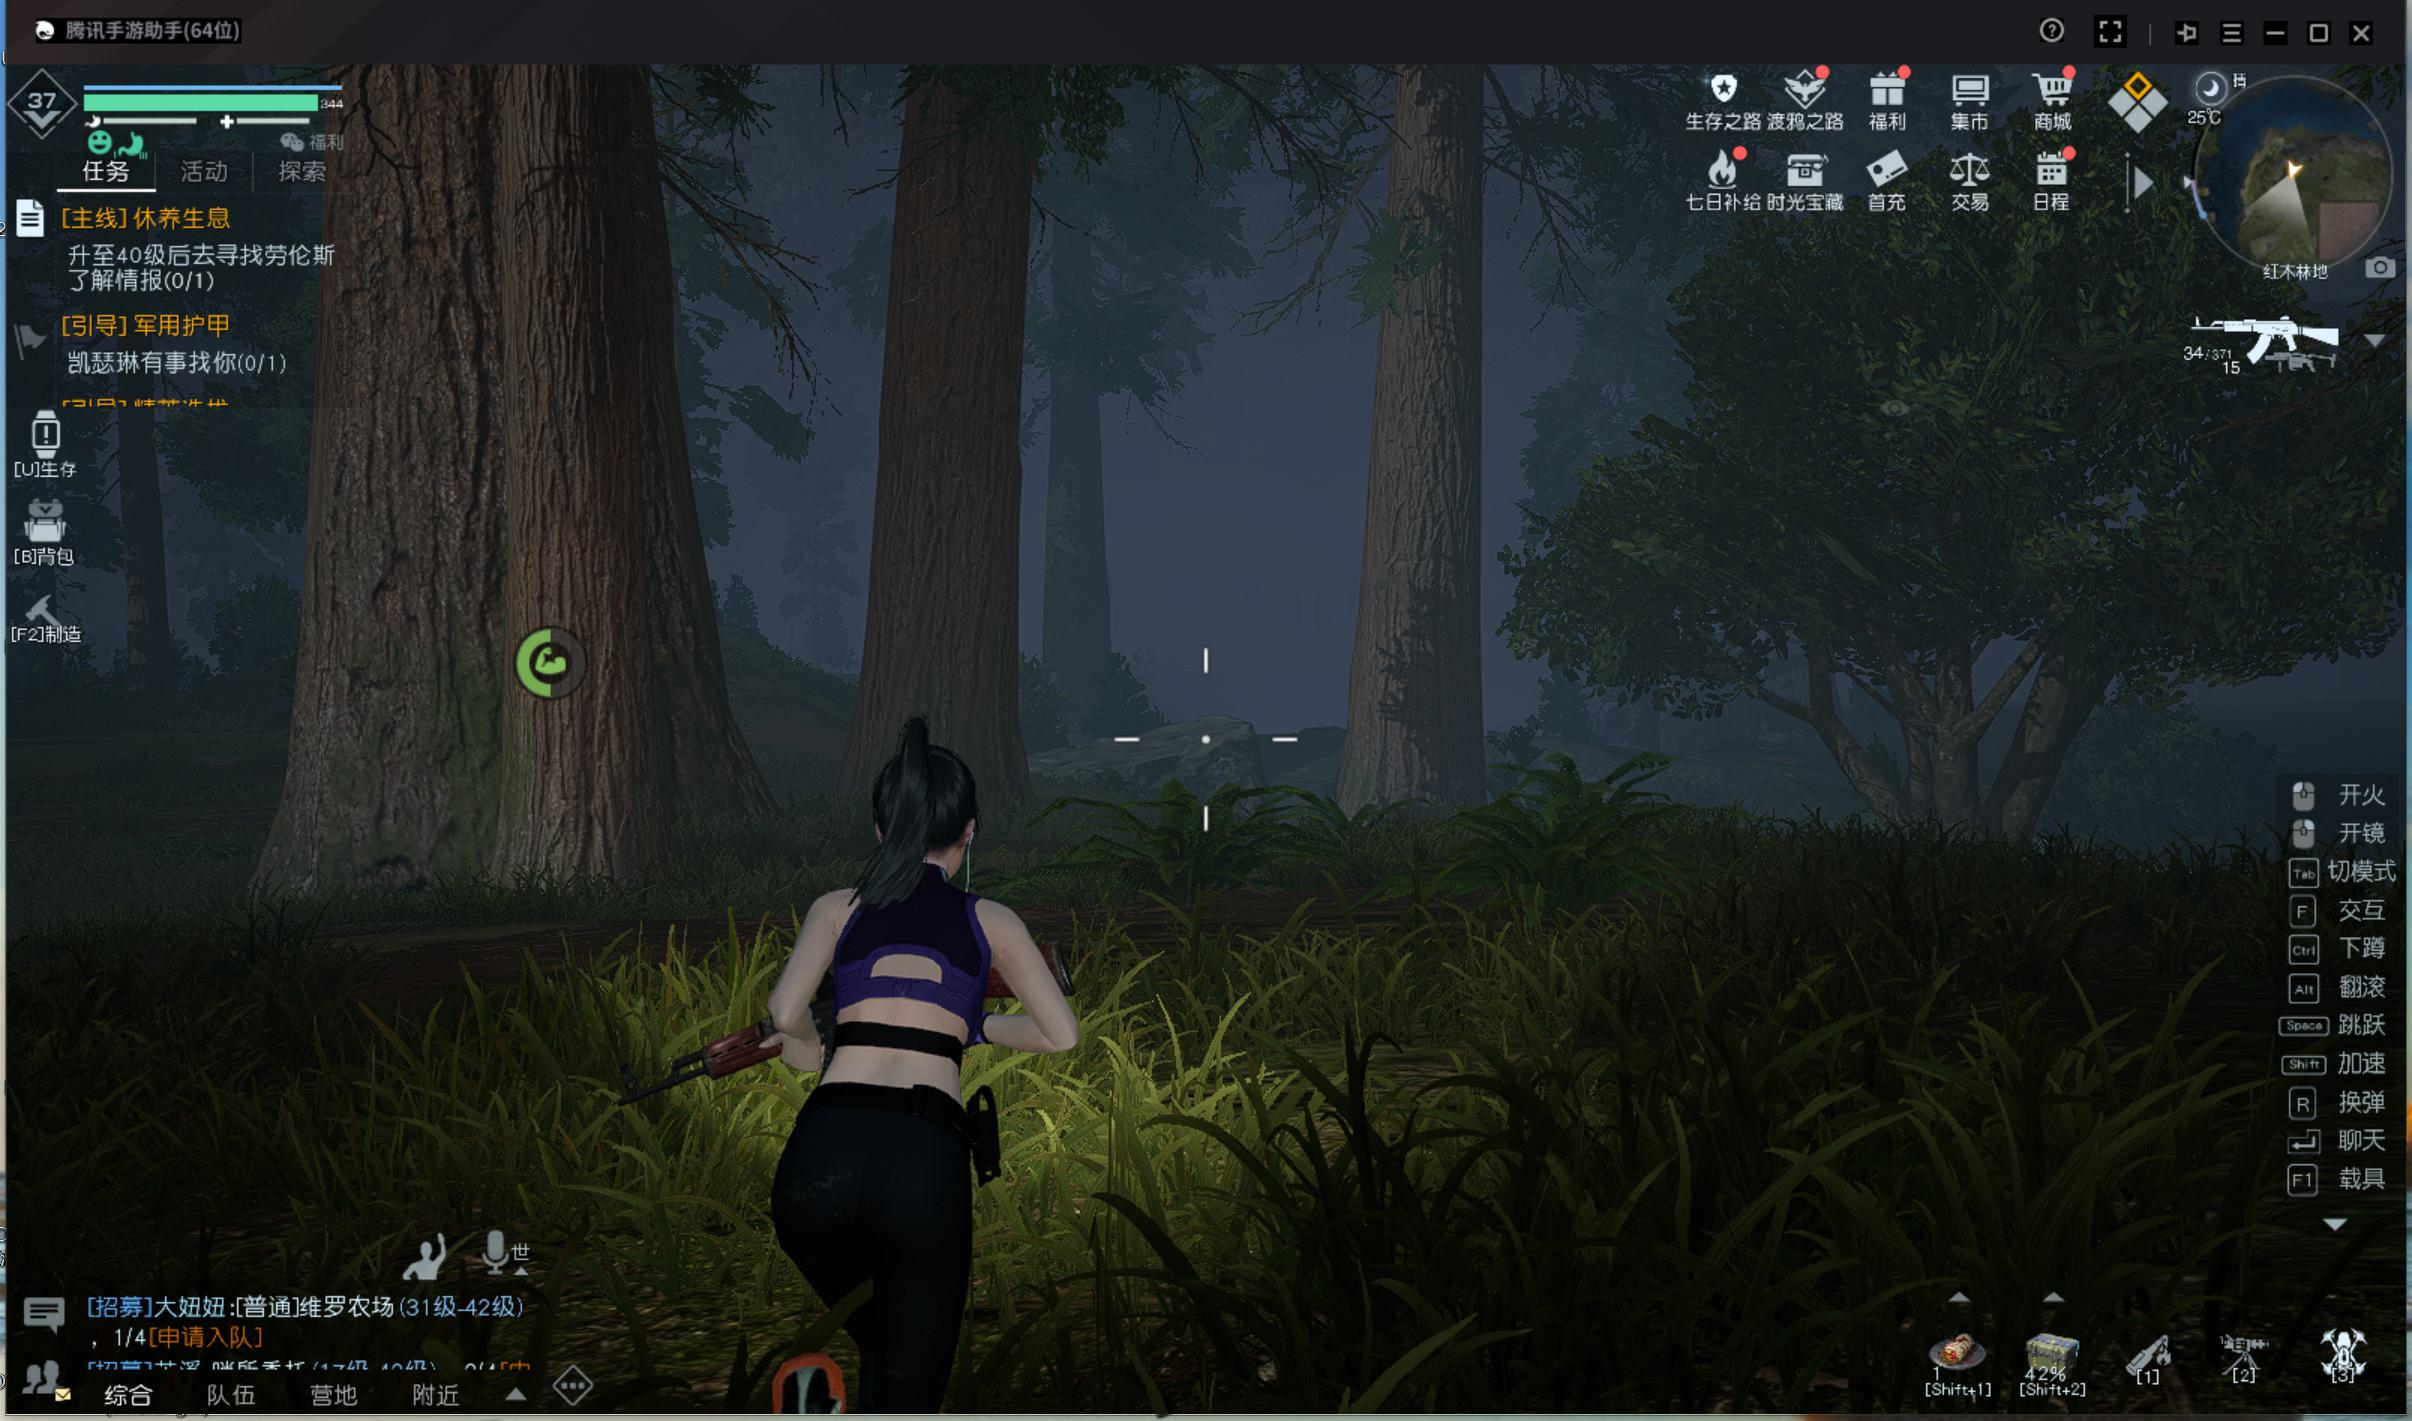tree: (294, 139, 744, 913), (866, 117, 1030, 773), (1363, 144, 1499, 851)
